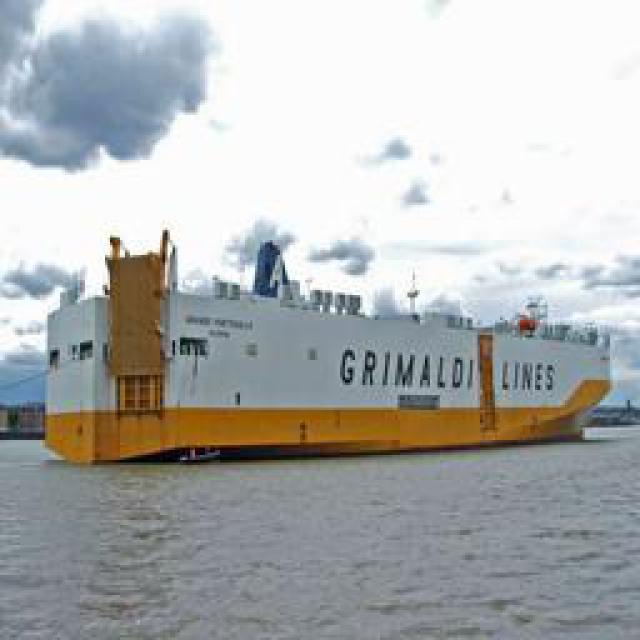Ship: (48, 220, 623, 463)
